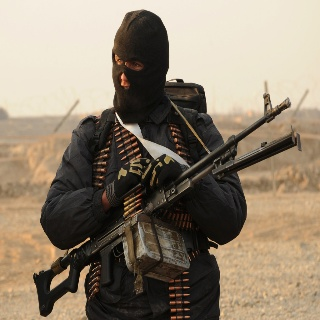rifle: (32, 90, 294, 319)
